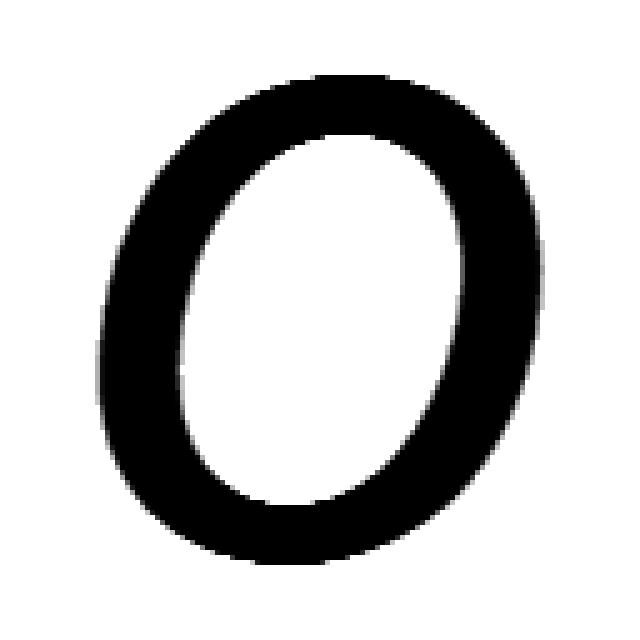O: (95, 75, 550, 570)
